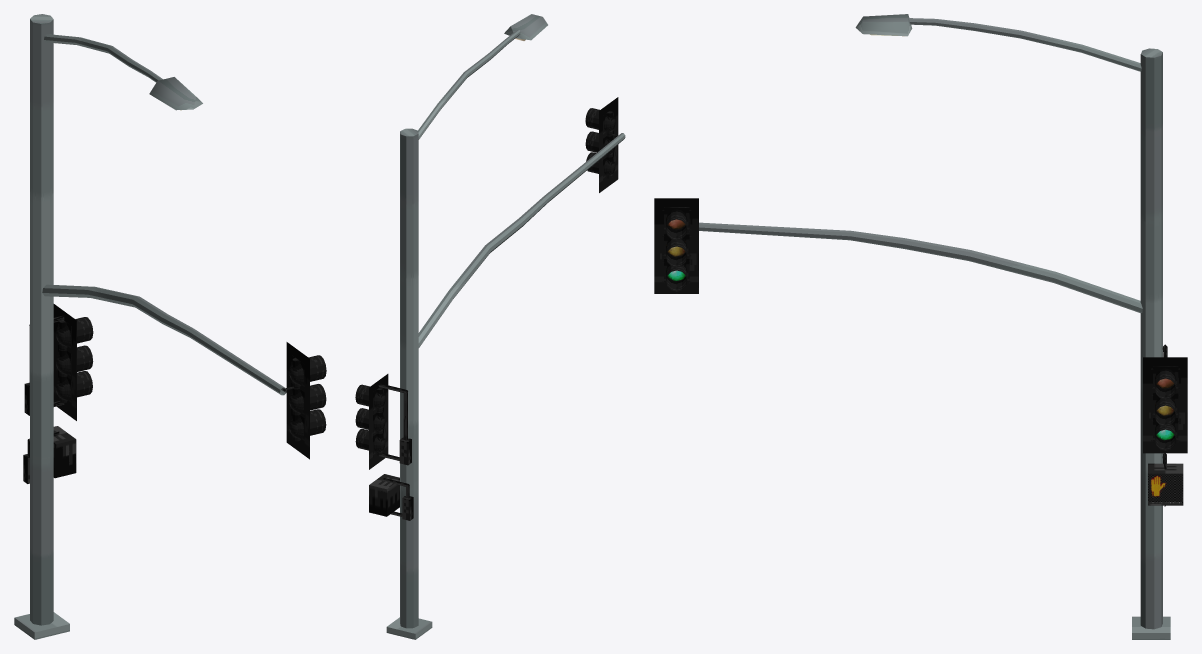
The model's file is ps1_or_psx_traffic_light_street_asset.glb.
3 views of the same model, side by side, from view 1: azimuth 30°, elevation 25°; view 2: azimuth 150°, elevation 25°; view 3: azimuth 270°, elevation 25° (orthographic). The views are drawn at different scales.
Parts seen in each view (by area): view 1: Object_18, Object_17, Object_19, Object_12; view 2: Object_18, Object_19, Object_17, Object_12, Object_3, Object_2; view 3: Object_18, Object_19, Object_17, Object_9.
Boxes of the visible parts, box(x1,y1,x2,y2) form: Object_18: box(14, 14, 286, 639); Object_17: box(283, 342, 326, 459); Object_19: box(53, 304, 93, 420); Object_12: box(53, 426, 76, 478); Object_18: box(386, 14, 625, 639); Object_19: box(355, 374, 388, 469); Object_17: box(585, 97, 618, 192); Object_12: box(369, 474, 399, 516); Object_3: box(378, 383, 411, 465); Object_2: box(383, 478, 413, 520); Object_18: box(699, 14, 1170, 639); Object_19: box(1143, 357, 1187, 453); Object_17: box(654, 198, 698, 293); Object_9: box(1148, 473, 1183, 503).
Size of what is drawn, in the model's own units: 1.05 by 8.74 by 6.9.
14 materials, 14 textured.
